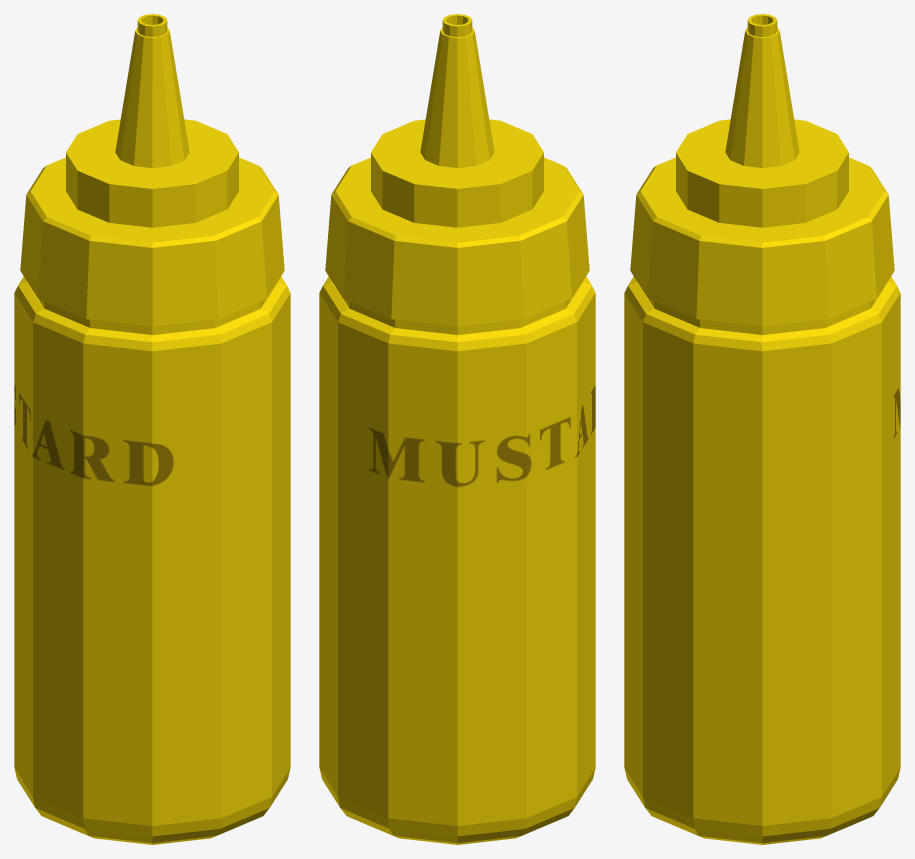
The model's file is mustard.obj.
The picture shows the model from 3 angles, left to right: view 1: azimuth 30°, elevation 25°; view 2: azimuth 150°, elevation 25°; view 3: azimuth 270°, elevation 25°; orthographic projection.
Visible parts, largest first — view 1: Cylinder; view 2: Cylinder; view 3: Cylinder.
Boxes of the visible parts, bbox=[...] form: Cylinder: bbox=[14, 14, 290, 844]; Cylinder: bbox=[319, 14, 595, 844]; Cylinder: bbox=[624, 14, 900, 844].
Bounding box in the file's own units: 0.7191 × 2.23 × 0.7191.
